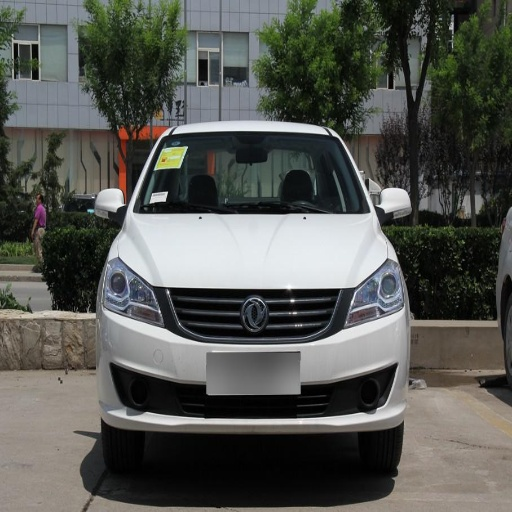front_bumper: (99, 286, 405, 433)
front_right_light: (101, 259, 164, 325)
hood: (122, 213, 388, 287)
